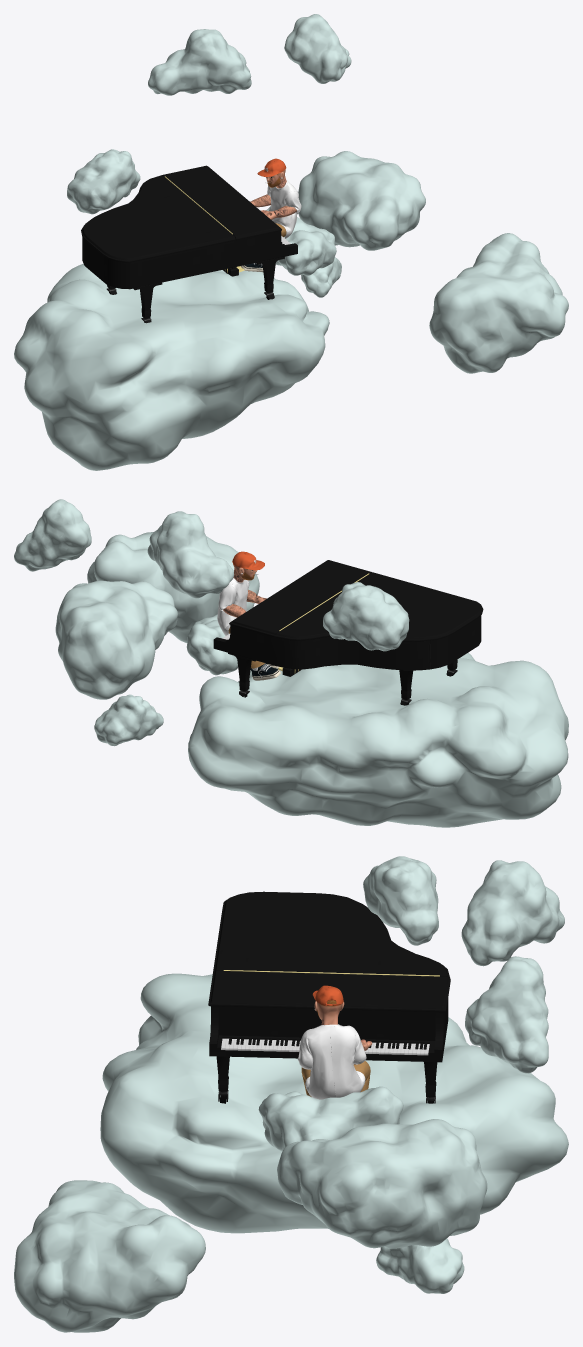
Rendered from mac_miler-transformed.glb.
3 renders of one model, top to bottom at view 1: azimuth 30°, elevation 25°; view 2: azimuth 150°, elevation 25°; view 3: azimuth 270°, elevation 25°, orthographic. The views are drawn at different scales.
Visible parts, largest first — view 1: Object_19, Object_12, Object_20, Object_15, Object_13, Object_14, Object_17, Object_18, Object_9, Object_16, Object_11; view 2: Object_19, Object_12, Object_15, Object_20, Object_13, Object_14, Object_17, Object_16, Object_18, Object_9, Object_11, Object_5; view 3: Object_19, Object_12, Object_15, Object_20, Object_13, Object_17, Object_18, Object_14, Object_9, Object_16.
Part boxes in pixels (box(x1,y1,x2,y2)): Object_19: box(14, 264, 329, 470); Object_12: box(81, 165, 297, 323); Object_20: box(429, 233, 568, 373); Object_15: box(298, 151, 425, 250); Object_13: box(148, 29, 251, 95); Object_14: box(67, 149, 140, 214); Object_17: box(284, 14, 351, 83); Object_18: box(266, 206, 336, 275); Object_9: box(267, 180, 301, 238); Object_16: box(301, 256, 341, 297); Object_11: box(250, 169, 296, 219); Object_19: box(188, 652, 568, 827); Object_12: box(213, 560, 483, 705); Object_15: box(55, 580, 177, 699); Object_20: box(87, 532, 259, 642); Object_13: box(147, 511, 234, 598); Object_14: box(323, 582, 409, 651); Object_17: box(14, 499, 91, 571); Object_16: box(94, 694, 163, 746); Object_18: box(186, 609, 249, 675); Object_9: box(217, 578, 249, 635); Object_11: box(223, 564, 266, 617); Object_5: box(232, 551, 264, 570); Object_19: box(100, 973, 568, 1233); Object_12: box(208, 891, 450, 1103); Object_15: box(277, 1119, 487, 1248); Object_20: box(14, 1180, 205, 1332); Object_13: box(461, 860, 564, 966); Object_17: box(465, 956, 548, 1073); Object_18: box(258, 1086, 403, 1151); Object_14: box(363, 856, 438, 945); Object_9: box(297, 1024, 366, 1099); Object_16: box(376, 1238, 464, 1293).
Size of the model in its own units: 6.97 by 4.39 by 4.95.
12 materials, 7 textured.
